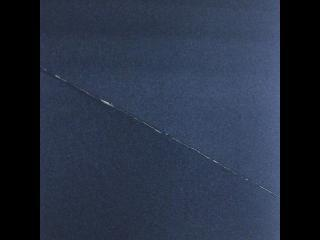crack: (39, 60, 279, 201)
